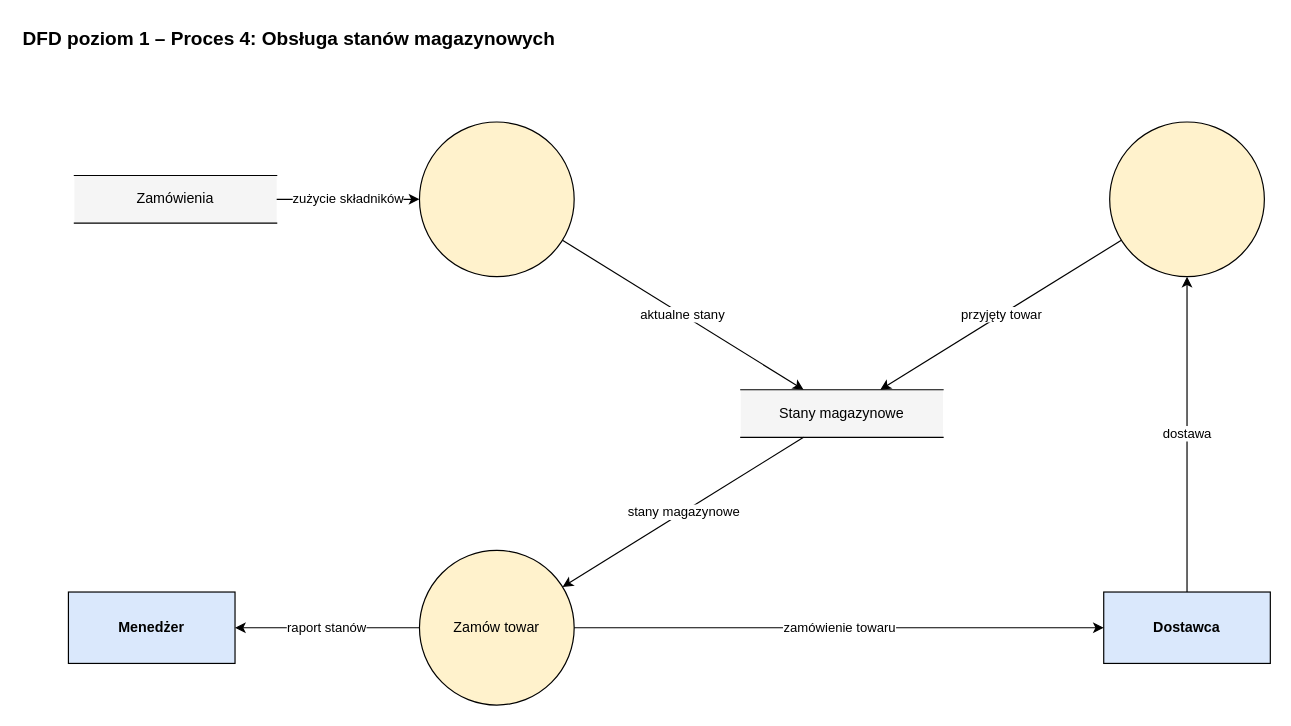
The diagram is 1291 pixels wide and 726 high, and some of its shapes have lost their labels. Here are the shapes that lost their labels. From the top down, the centre of each, then its label:
the point at 496,199: Aktualizuj stany
the point at 1186,199: Przyjmij dostawę
